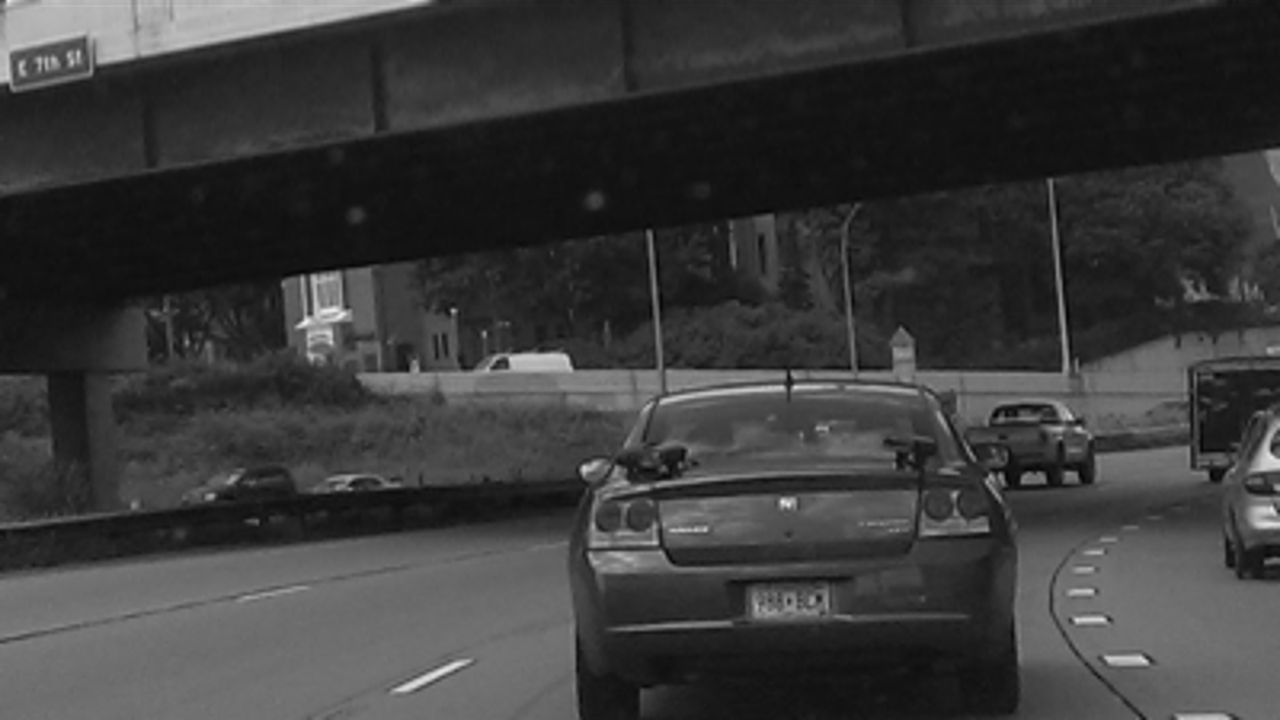license: (737, 573, 839, 621)
